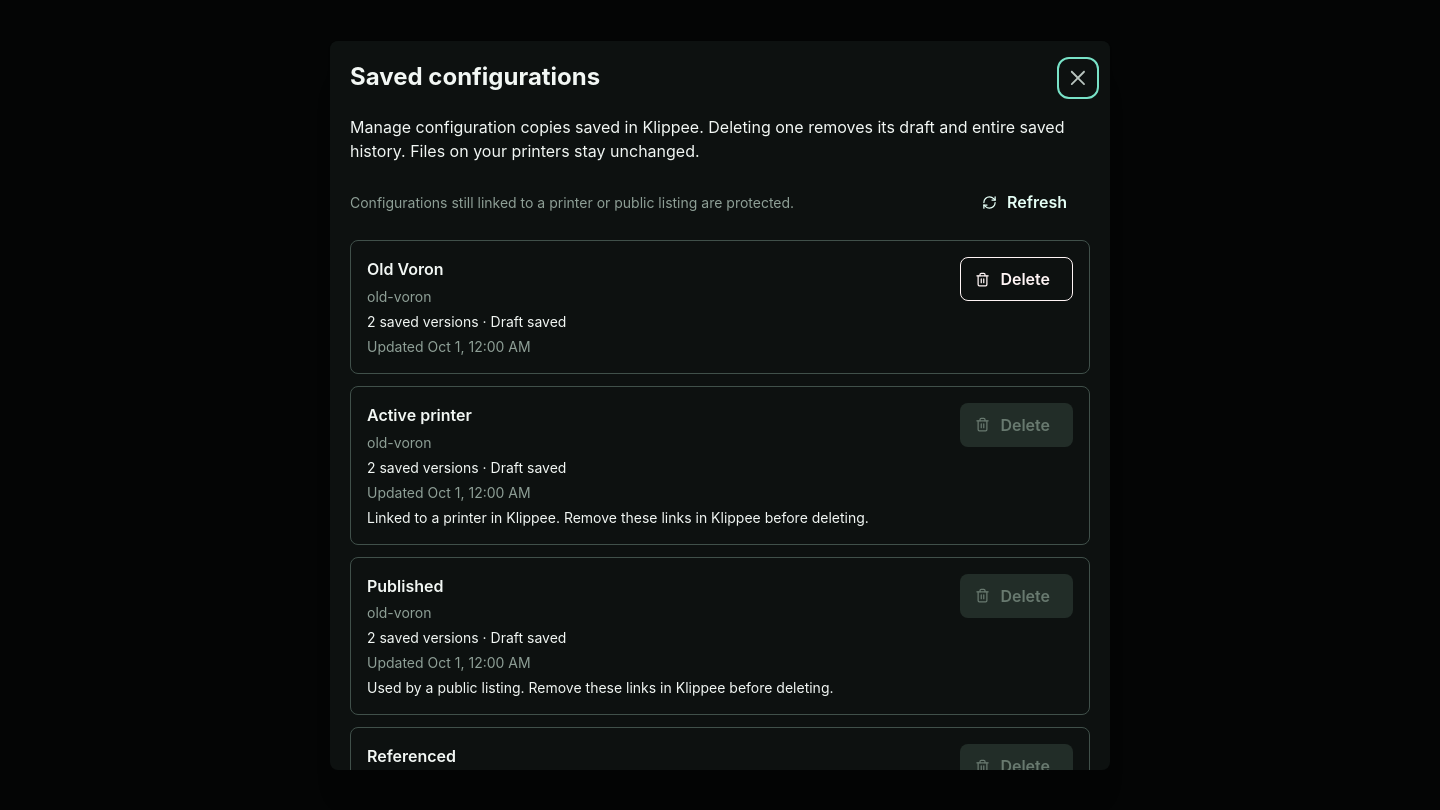
Test: saved configurations › shows history and protection reasons; cancel restores focus without deleting anything
The image size is (1440, 810).
Later steps or results of the test are not shown.
Expected: the text "2 saved versions · Draft saved" below "Old Voron" is shown, [367, 313, 566, 330]
Expected: the button with aria-label "Delete Active printer" is disabled, [960, 403, 1073, 447]
Click the button with aria-label "Delete Old Voron": (1016, 279) [960, 257, 1073, 301]
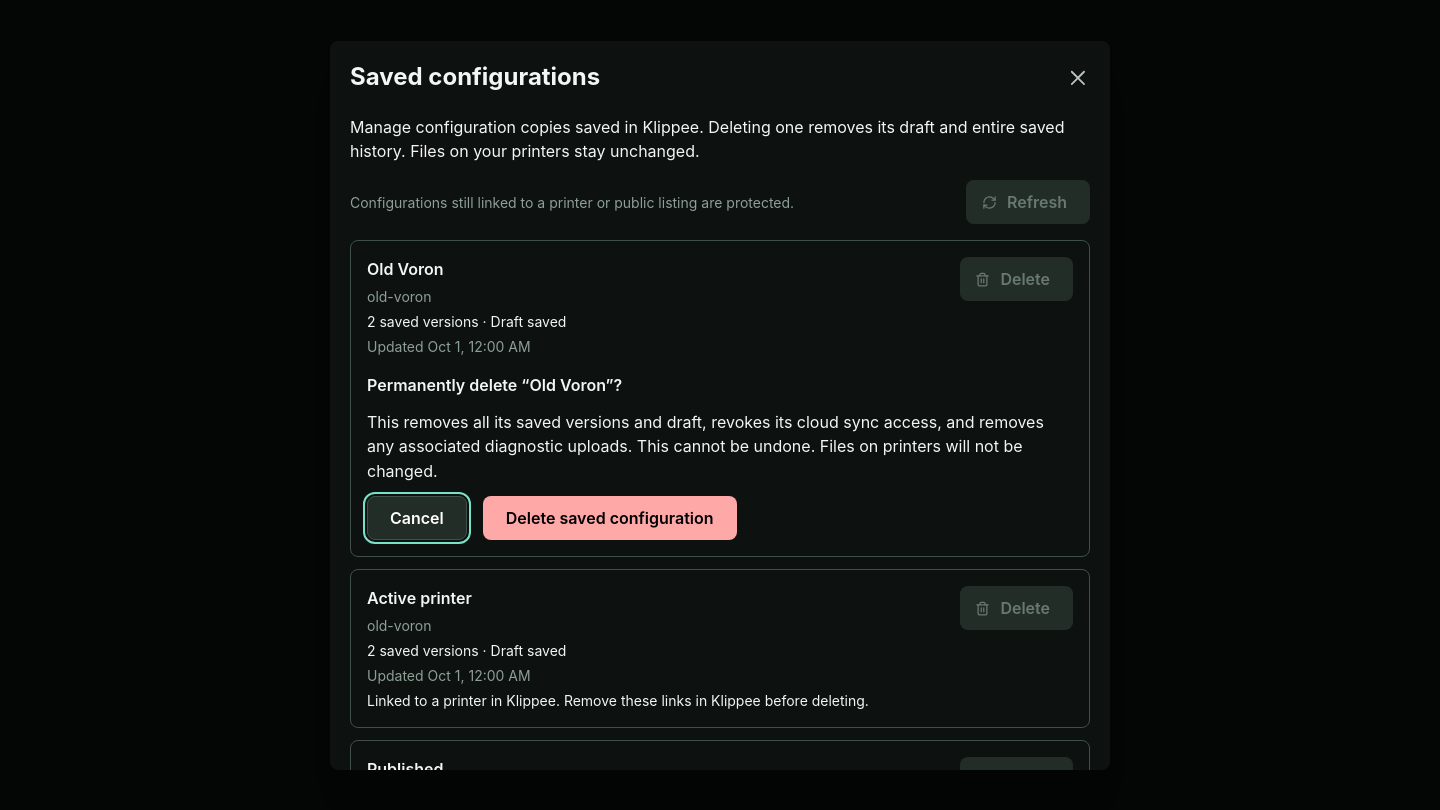
Now the text "Files on printers will not be changed" is shown, box [367, 412, 1044, 481]
